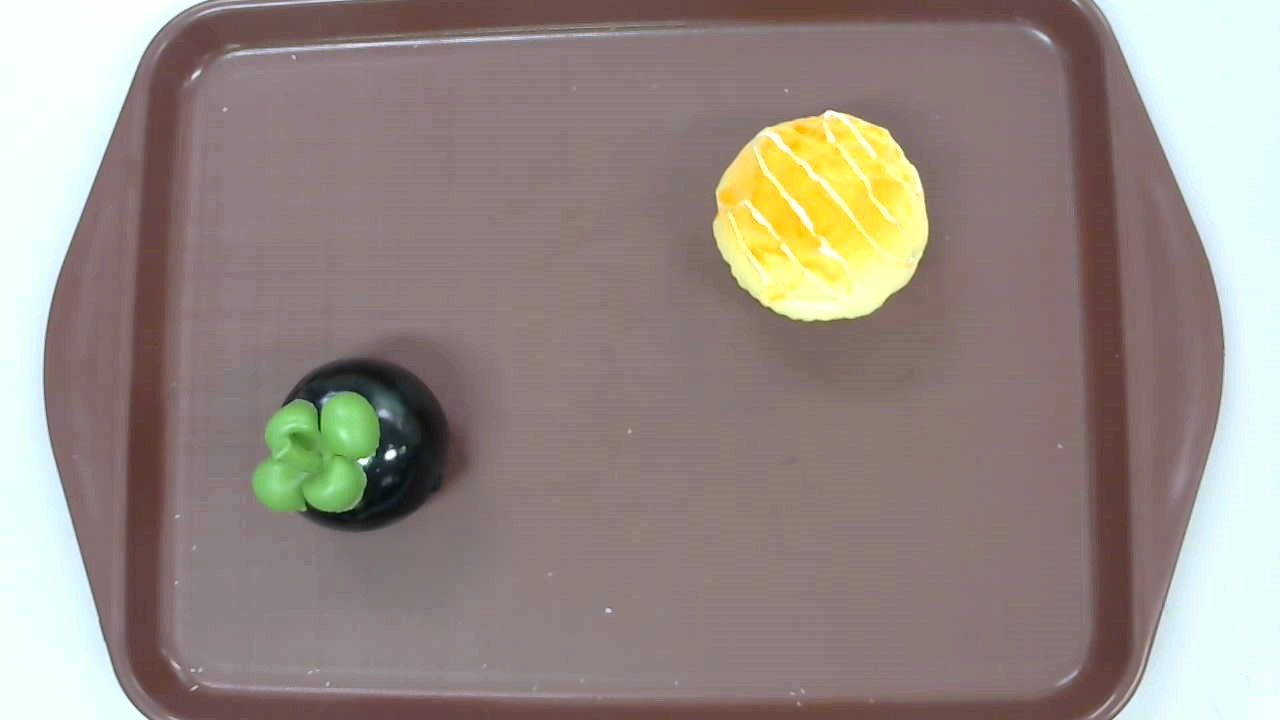cupcake: (713, 108, 930, 325)
mangosteen: (251, 356, 451, 532)
